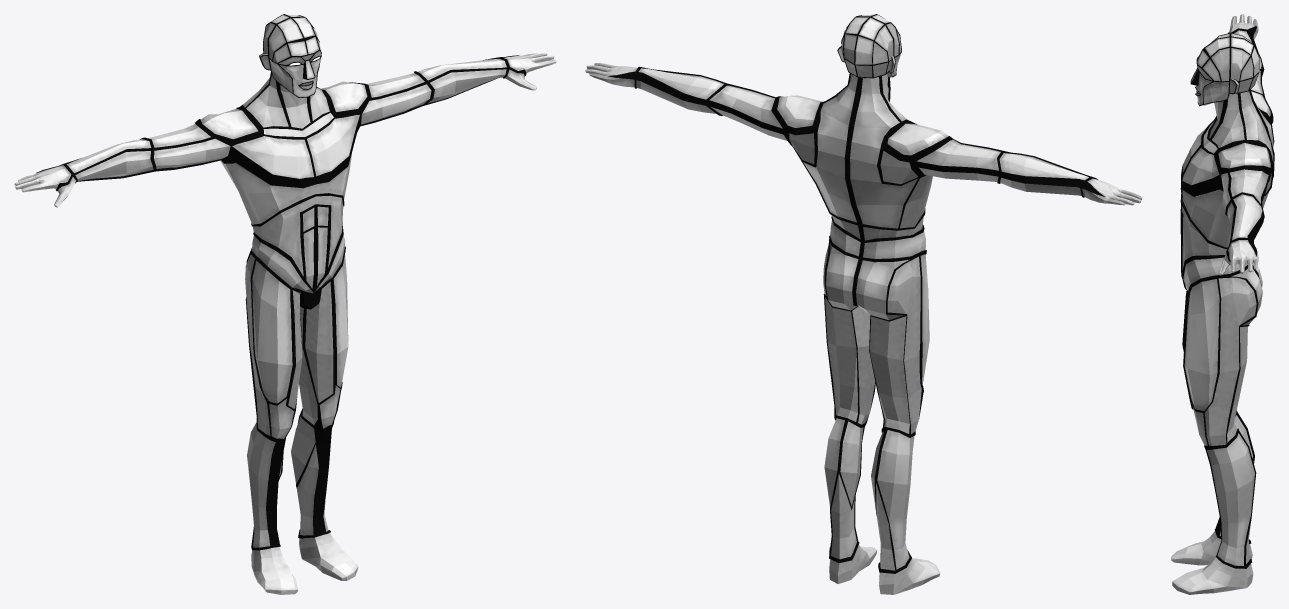
File: Orion.glb
3 views of the same model, side by side, from view 1: azimuth 30°, elevation 25°; view 2: azimuth 150°, elevation 25°; view 3: azimuth 270°, elevation 25° (orthographic). The views are drawn at different scales.
Parts seen in each view (by area): view 1: Orion; view 2: Orion; view 3: Orion.
Boxes of the visible parts, x1,y1,x2,y2 form: Orion: (14, 14, 556, 594); Orion: (585, 14, 1142, 594); Orion: (1171, 14, 1274, 594).
Size of the model in its own units: 1.24 by 1.21 by 0.2104.
1 material, 1 textured.
